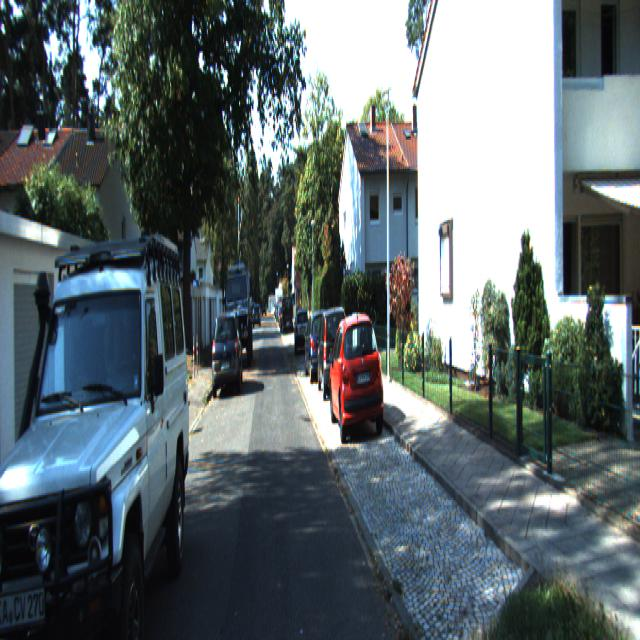Car: (0, 166, 191, 638), (326, 306, 384, 446), (316, 306, 350, 400), (223, 260, 252, 360), (210, 308, 241, 397), (303, 307, 331, 384), (294, 307, 310, 355), (281, 294, 294, 334)
